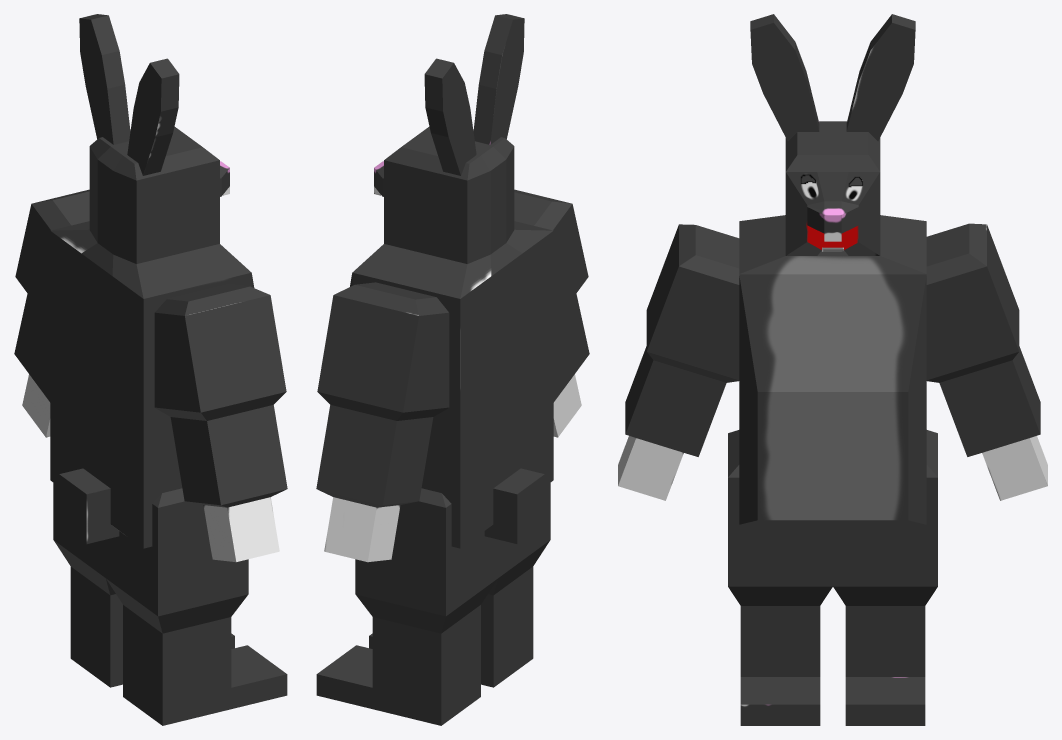
The model's file is bigChungus.png.fbx.
3 views of the same model, side by side, from view 1: azimuth 30°, elevation 25°; view 2: azimuth 150°, elevation 25°; view 3: azimuth 270°, elevation 25° (orthographic).
Parts seen in each view (by area): view 1: Cube; view 2: Cube; view 3: Cube.
Part boxes in pixels (bbox=[...]): Cube: bbox=[14, 14, 287, 725]; Cube: bbox=[316, 14, 589, 725]; Cube: bbox=[618, 14, 1047, 725].
Size of the model in its own units: 311 by 1149 by 686.
